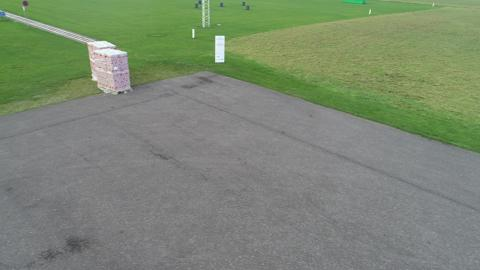RockwoolPallet: (88, 40, 118, 51)
